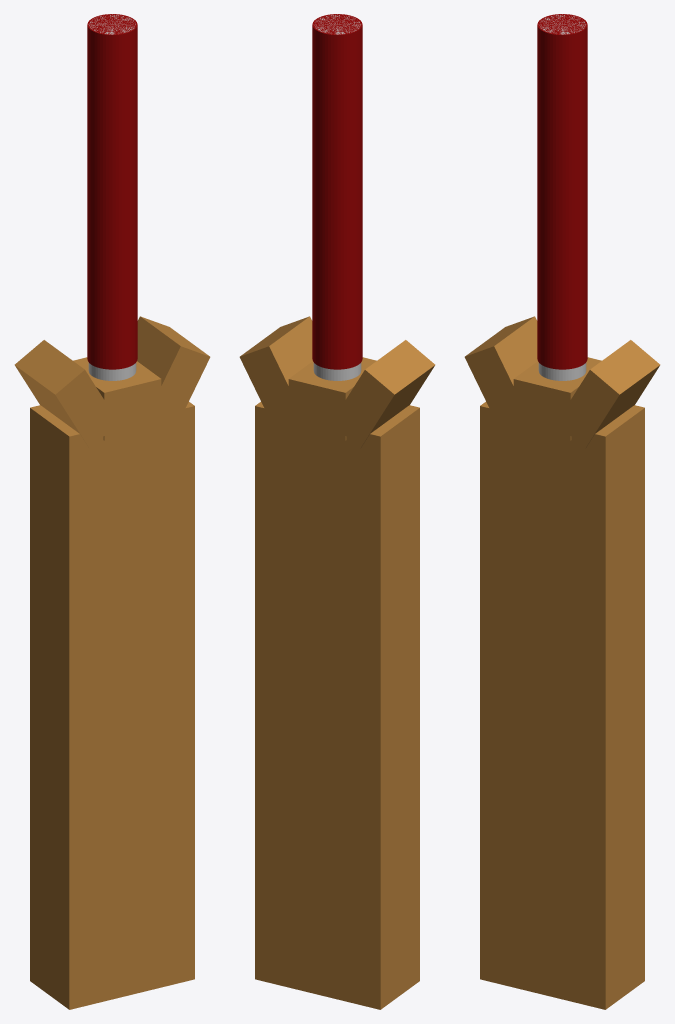
The picture shows the model from 3 angles, left to right: view 1: azimuth 30°, elevation 25°; view 2: azimuth 150°, elevation 25°; view 3: azimuth 330°, elevation 25°; orthographic projection.
Visible parts, largest first — view 1: part_5, part_3, part_2, part_1, part_0, part_4; view 2: part_5, part_3, part_2, part_1, part_0, part_4; view 3: part_5, part_3, part_1, part_2, part_0, part_4.
Part boxes in pixels (x1=…): part_5: x1=30, y1=402, x2=194, y2=1009; part_3: x1=87, y1=14, x2=137, y2=369; part_2: x1=14, y1=340, x2=115, y2=448; part_1: x1=137, y1=316, x2=210, y2=426; part_0: x1=73, y1=357, x2=161, y2=440; part_4: x1=88, y1=14, x2=136, y2=380; part_5: x1=255, y1=402, x2=419, y2=1009; part_3: x1=312, y1=14, x2=362, y2=369; part_2: x1=332, y1=340, x2=435, y2=448; part_1: x1=239, y1=316, x2=312, y2=426; part_0: x1=288, y1=357, x2=376, y2=440; part_4: x1=313, y1=14, x2=361, y2=380; part_5: x1=480, y1=402, x2=644, y2=1009; part_3: x1=537, y1=14, x2=587, y2=369; part_1: x1=560, y1=340, x2=660, y2=448; part_2: x1=464, y1=316, x2=537, y2=426; part_0: x1=513, y1=357, x2=601, y2=440; part_4: x1=538, y1=14, x2=586, y2=380.
Size of the model in its own units: 0.17 by 1 by 0.0775.
